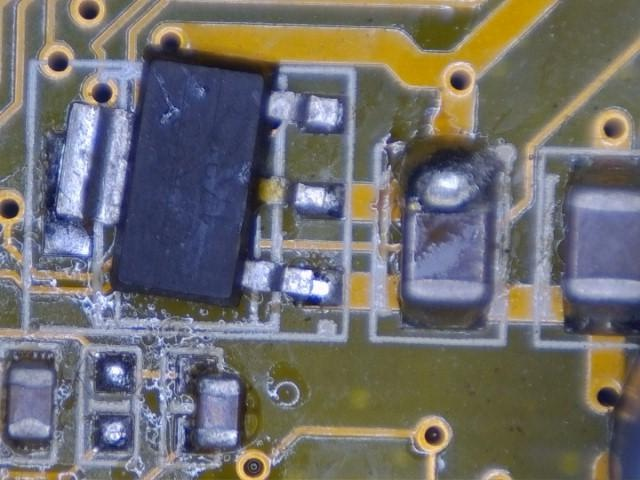pcb_defect: (42, 54, 346, 308)
